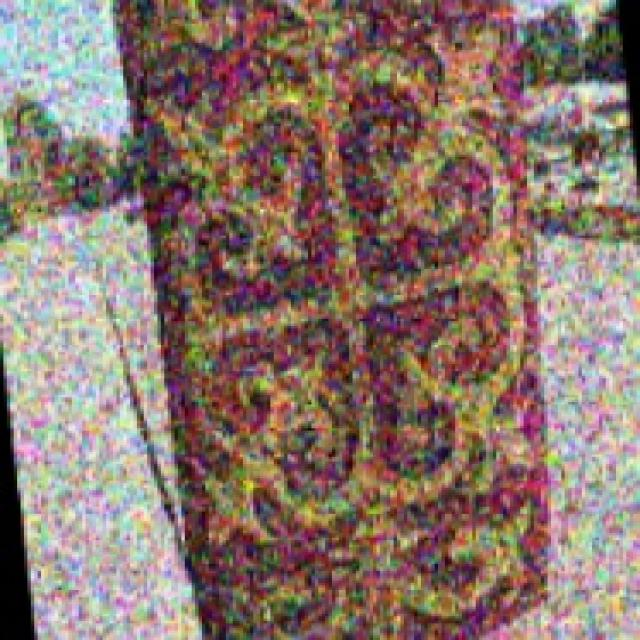Unity: (106, 19, 553, 576)
